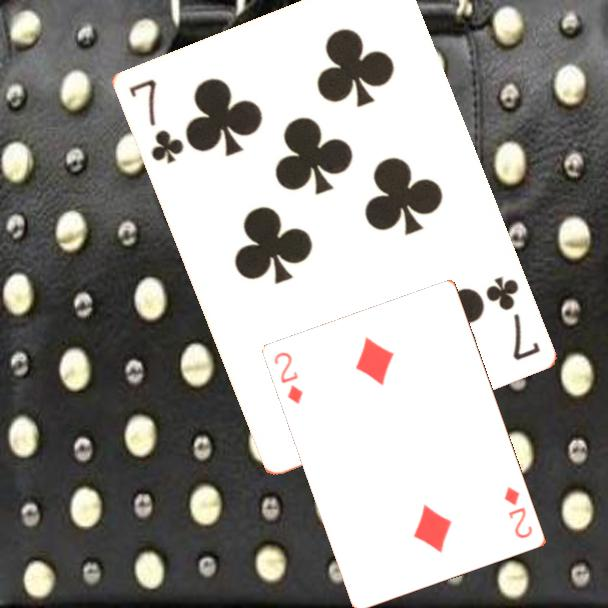c07: (125, 75, 187, 167), (481, 272, 542, 363)
d02: (271, 348, 307, 407), (501, 483, 536, 542)
